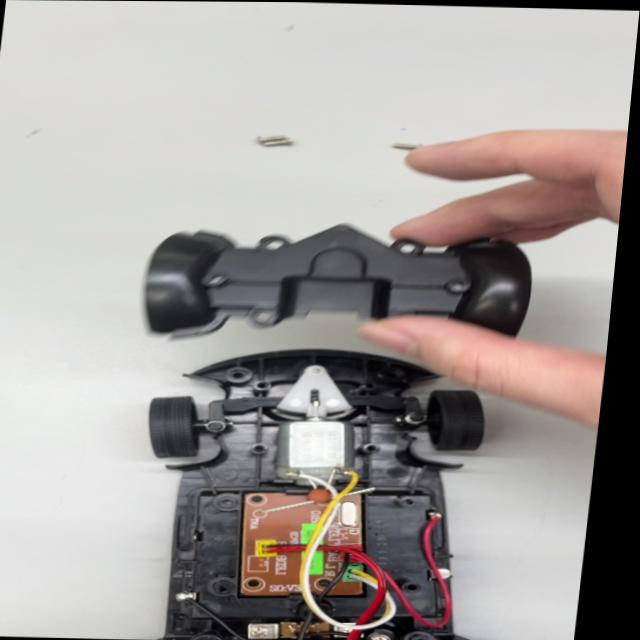motor: (269, 392, 362, 482)
motor_cover: (128, 218, 552, 353)
